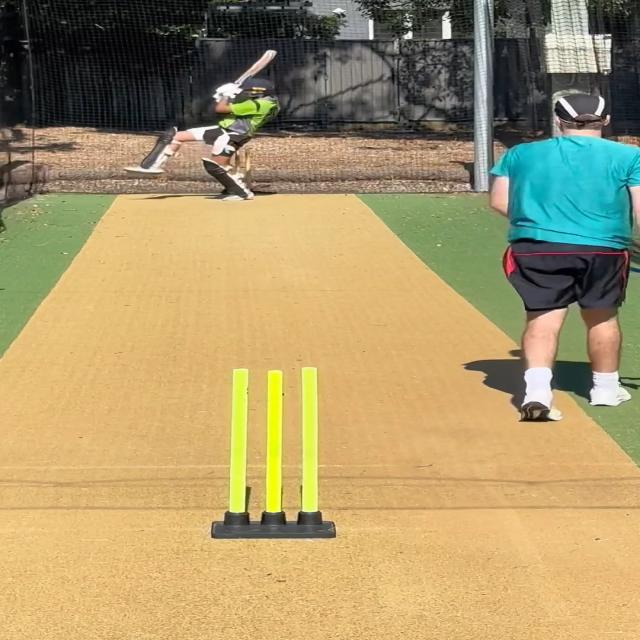stump: (208, 365, 340, 540)
